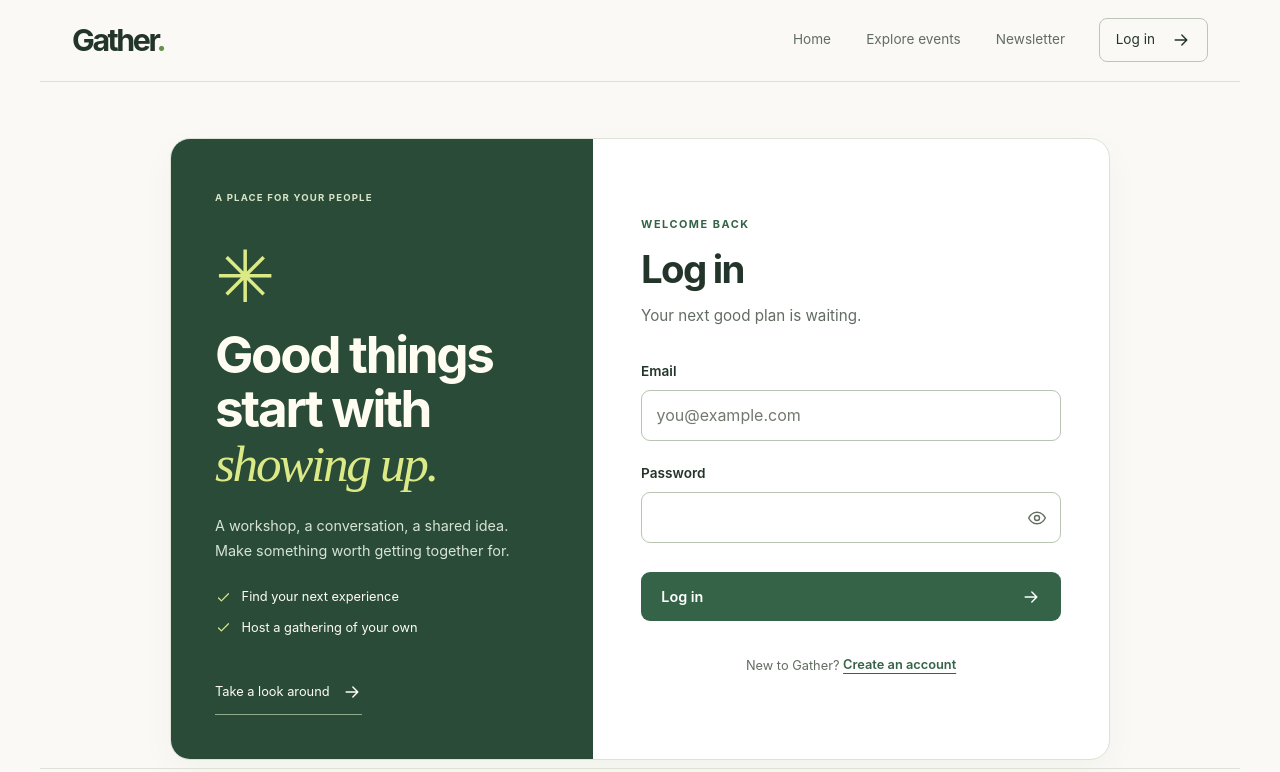
Test: returns to the protected form after login and updates the navigation
The image size is (1280, 772).
Expected: the heading "Log in" is shown, [641,246,744,292]
In the field labelled "Email": (851, 416) [641,390,1061,441], type "owner@example.com"
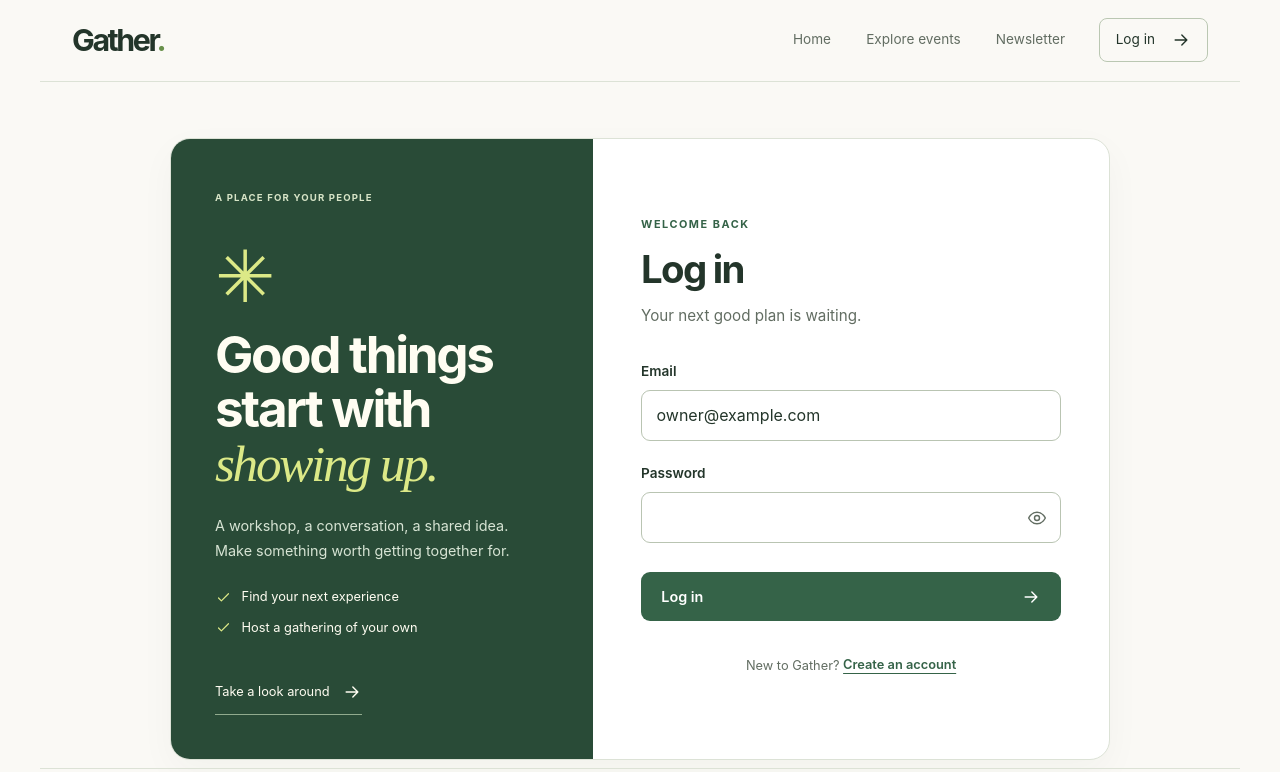
In the password field labelled "Password": (851, 518) [641,492,1061,543], type "test-password"
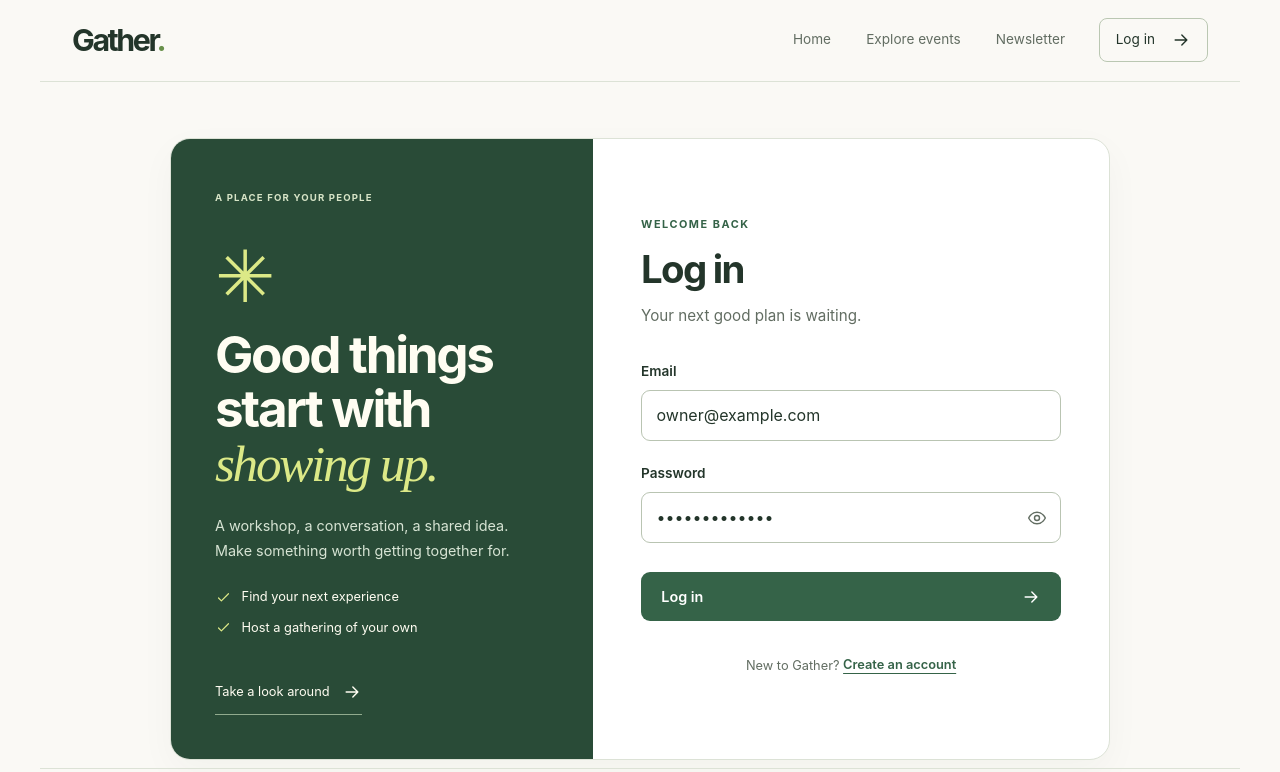
Submit the form "Log in", box [641,217,1061,672]
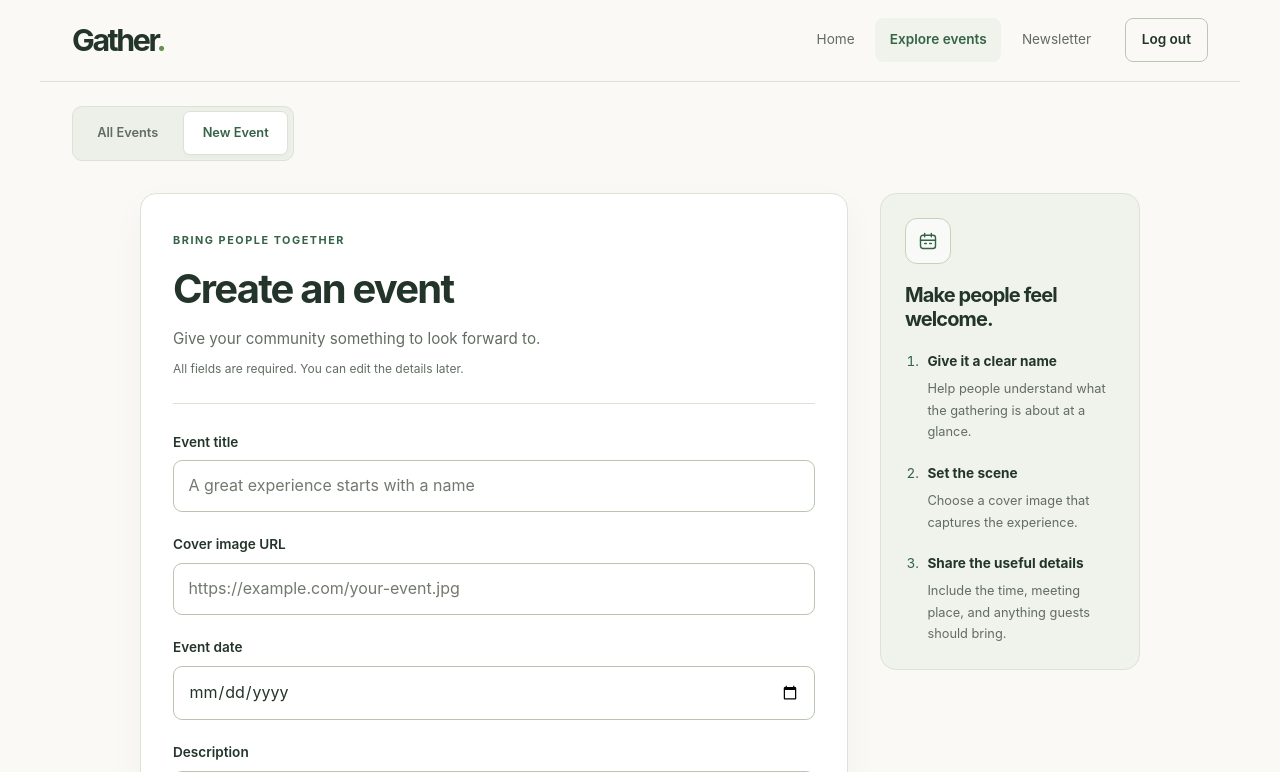
Now the heading "Create an event" is shown, box [173,264,453,313]
Now the button "Log out" is shown, box [1125,18,1208,62]
